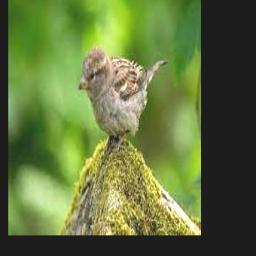Sparrow: (78, 44, 166, 151)
